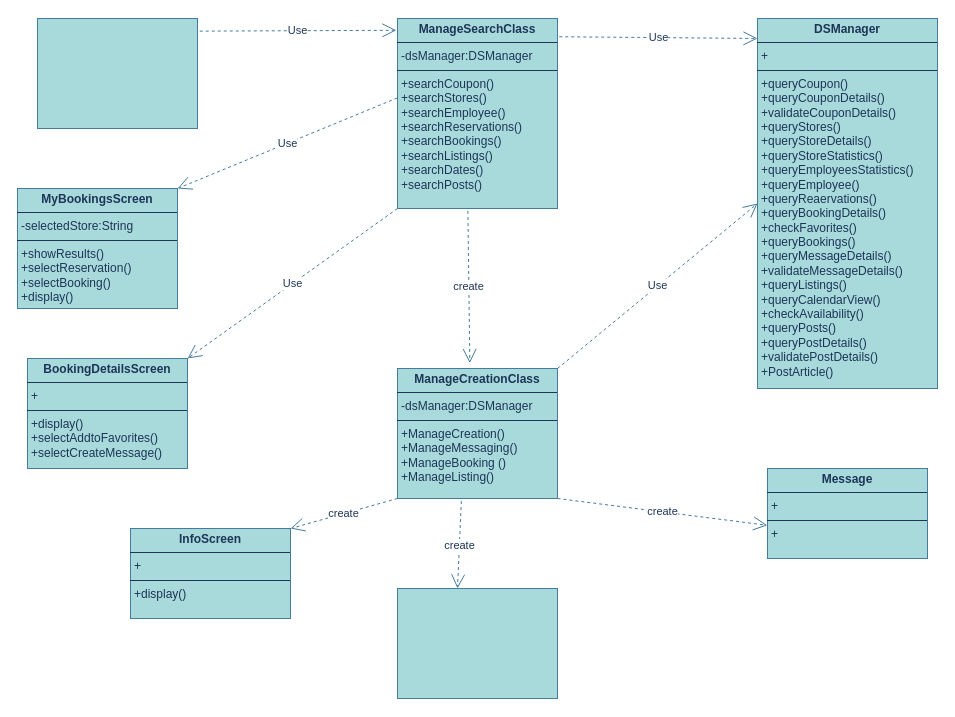
Some shapes in this 955 by 717 pixel diagram are drawn without their labels. Each missing label, with the box of its shape:
CustomersMenuScreen + + display() +startSearch() +selectJoinOurTeam(): (36, 18, 198, 128)
MessagingScreen + + display() +submit() +checkMessageDetails(): (396, 588, 558, 698)
